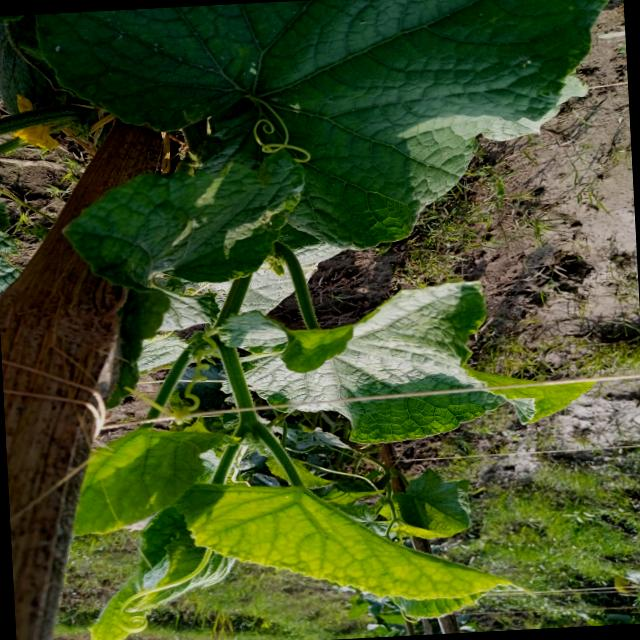cucumber_healthy: (31, 0, 630, 273), (203, 269, 600, 456), (54, 136, 314, 298)
